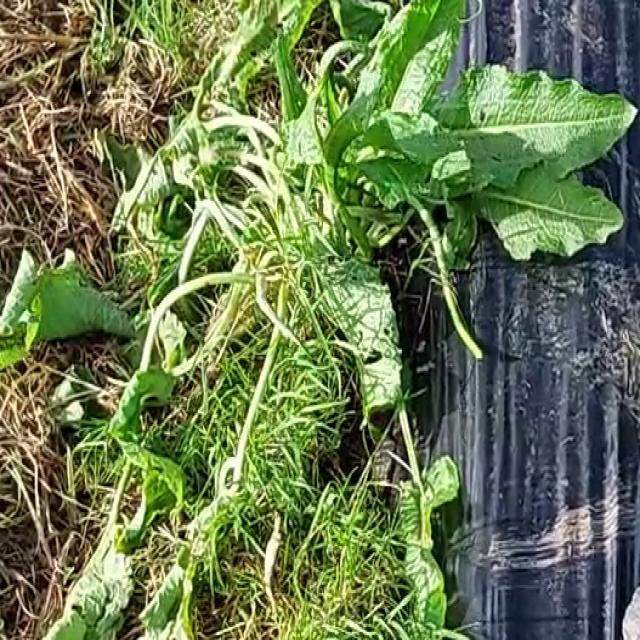organic waste: (130, 0, 640, 306), (58, 312, 307, 640), (0, 220, 180, 397)
